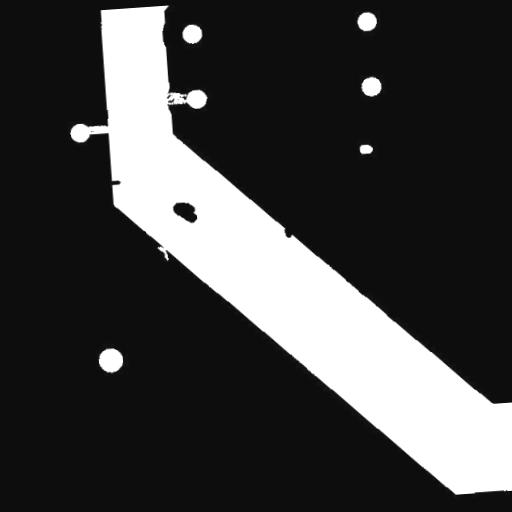copper: (164, 193, 206, 232)
mousebite: (149, 238, 176, 269)
open: (156, 83, 200, 113), (75, 116, 121, 142)
pin-hole: (351, 136, 381, 162)
spur: (274, 216, 300, 246), (98, 172, 128, 194)
